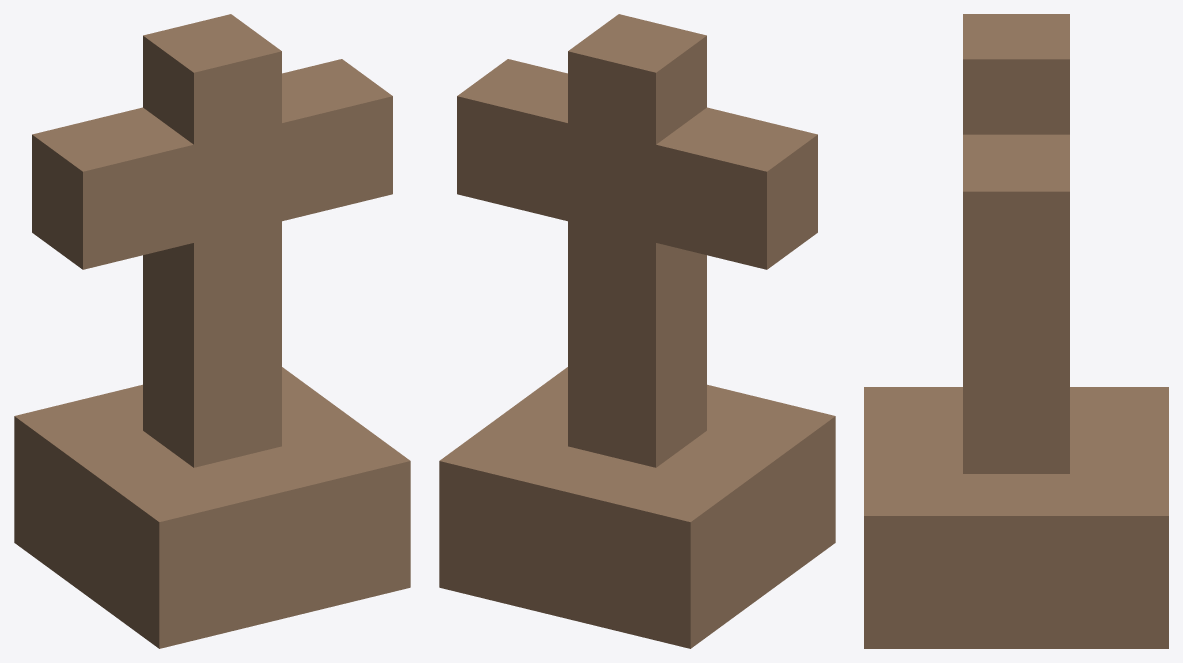
Rendered from cross.fbx.
3 renders of one model, left to right at view 1: azimuth 30°, elevation 25°; view 2: azimuth 150°, elevation 25°; view 3: azimuth 270°, elevation 25°, orthographic. The views are drawn at different scales.
Parts seen in each view (by area): view 1: polySurface2; view 2: polySurface2; view 3: polySurface2.
Part boxes in pixels (x1=…): polySurface2: x1=14, y1=14, x2=410, y2=648; polySurface2: x1=439, y1=14, x2=835, y2=648; polySurface2: x1=864, y1=14, x2=1168, y2=648.
Bounding box in the file's own units: 2.99 × 4.81 × 2.43.
